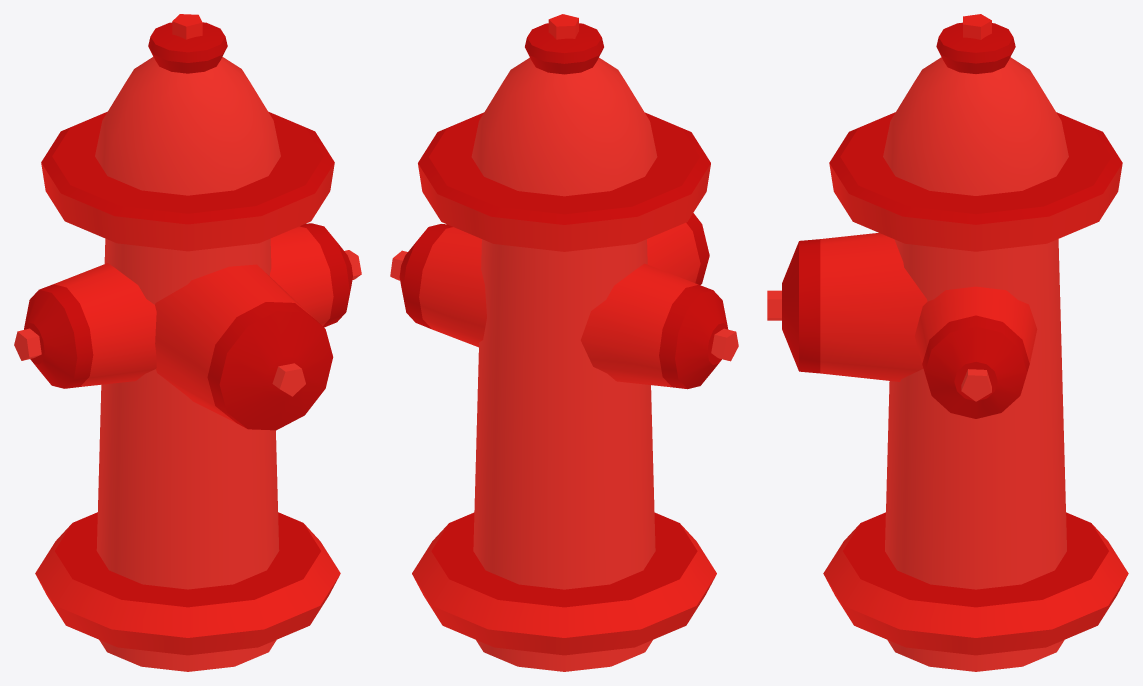
File: FireHydrant.glb
The picture shows the model from 3 angles, left to right: view 1: azimuth 30°, elevation 25°; view 2: azimuth 150°, elevation 25°; view 3: azimuth 270°, elevation 25°; orthographic projection.
Visible parts, largest first — view 1: FireHydrant; view 2: FireHydrant; view 3: FireHydrant.
Part boxes in pixels (box(x1,y1,x2,y2)): FireHydrant: box(14, 14, 361, 671); FireHydrant: box(390, 14, 738, 671); FireHydrant: box(767, 14, 1128, 671).
Bounding box in the file's own units: 0.8016 × 1.41 × 0.7538.
Materials: 1 (1 with a texture image).
